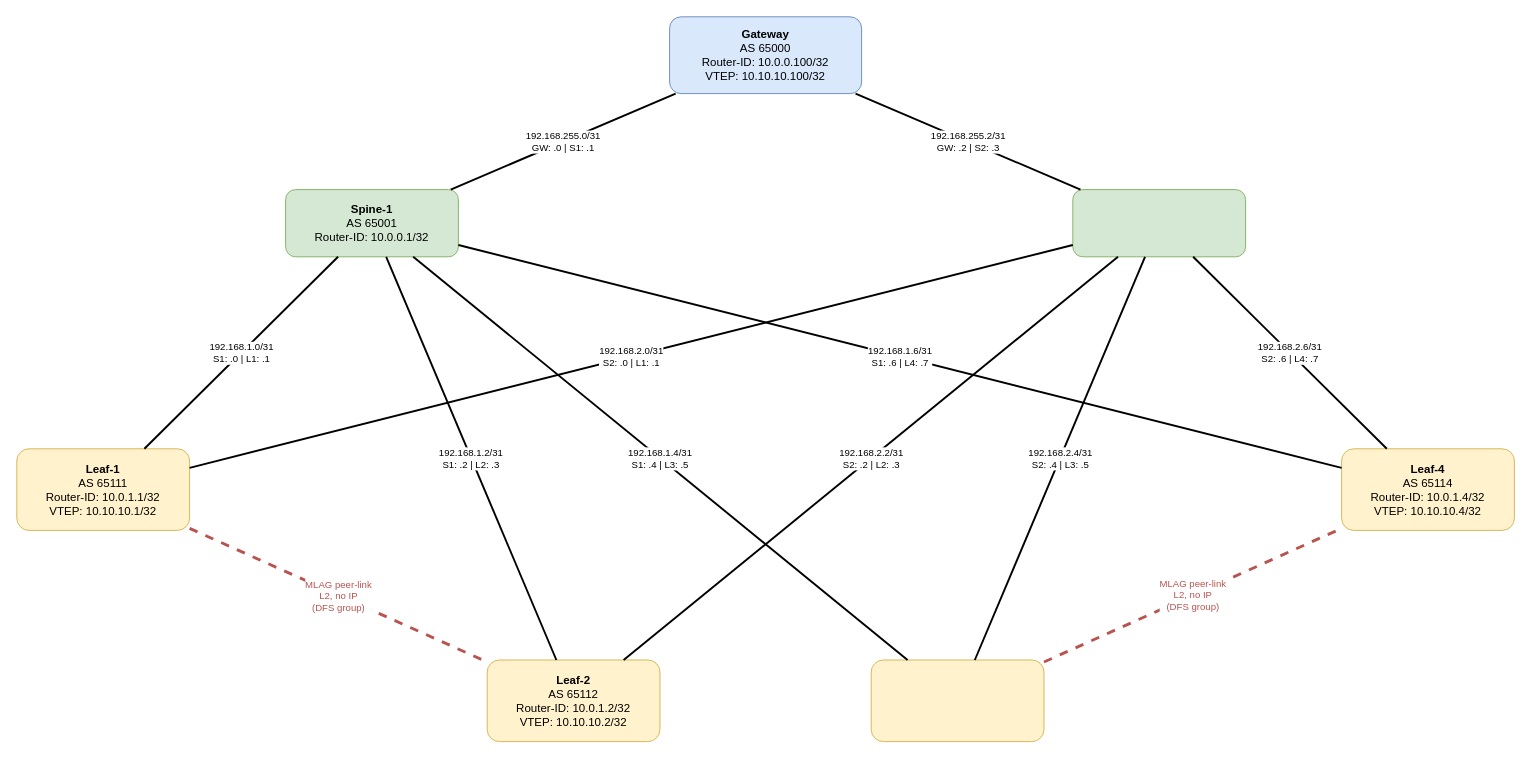
This 1531x758 diagram has some shape labels left out. The shapes that lost their labels are listed below. From the top down, each one's centre as x and y in pixels, then its label:
At point (1159, 223): "Spine-2 AS 65002 Router-ID: 10.0.0.2/32".
At point (957, 700): "Leaf-3 AS 65113 Router-ID: 10.0.1.3/32 VTEP: 10.10.10.3/32".
